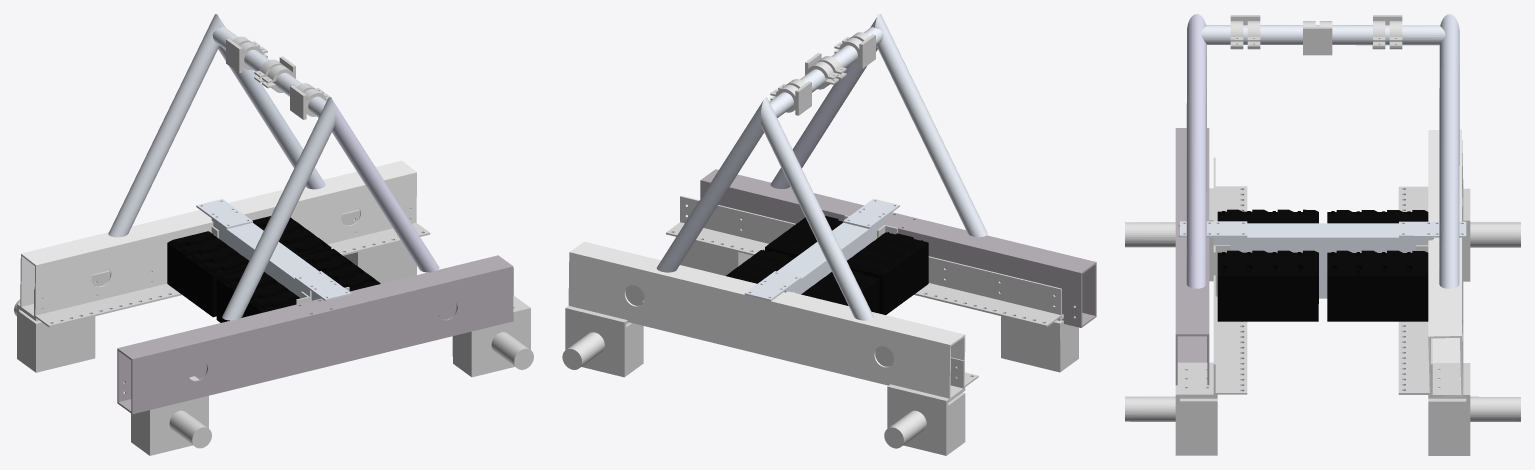
The model's file is base_unit.dae.
3 views of the same model, side by side, from view 1: azimuth 30°, elevation 25°; view 2: azimuth 150°, elevation 25°; view 3: azimuth 270°, elevation 25° (orthographic). The views are drawn at different scales.
Visible parts, largest first — view 1: Rover R4 - 58in Base Beam-3, Rover R4 - 58in Base Beam-2, Rover R4 - BAR1-3, Rover R4 - BAR1-1, Rover R4 - Simple Motor-3, Rover R4 - Simple Motor-1, Rover R4 - Simple Motor-4, Rover R4 - BAR1-4, Rover R4 - Base Plate-1, Rover R4 - Angled Bar 1-1, Rover R4 - BAR1-2, Rover R4 - Simple Motor-2 (+14 smaller); view 2: Rover R4 - 58in Base Beam-2, Rover R4 - 58in Base Beam-3, Rover R4 - Angled Bar 2-1, Rover R4 - Simple Motor-1, Rover R4 - Simple Motor-2, Rover R4 - BAR1-1, Rover R4 - BAR1-3, Rover R4 - Angled Bar 1-2, Rover R4 - Simple Motor-4, Rover R4 - BAR1-2, Rover R4 - Base Plate-1, Rover R4 - BAR1-4 (+13 smaller); view 3: Rover R4 - Base Plate-1, Rover R4 - BAR1-2, Rover R4 - BAR1-4, Rover R4 - 58in Base Beam-2, Rover R4 - Simple Motor-3, Rover R4 - 58in Base Beam-3, Rover R4 - Simple Motor-2, Rover R4 - BAR2-1, Rover R4 - Angled Bar 1-2, Rover R4 - Angled Bar 2-2, Rover R4 - Simple Motor-1, Rover R4 - Battery Model-15 (+15 smaller).
Boxes of the visible parts, left/top/right/bottom form: Rover R4 - 58in Base Beam-3: left=117, top=255, right=513, bottom=414; Rover R4 - 58in Base Beam-2: left=20, top=160, right=416, bottom=315; Rover R4 - BAR1-3: left=222, top=97, right=335, bottom=320; Rover R4 - BAR1-1: left=108, top=14, right=220, bottom=237; Rover R4 - Simple Motor-3: left=452, top=295, right=533, bottom=377; Rover R4 - Simple Motor-1: left=14, top=299, right=95, bottom=372; Rover R4 - Simple Motor-4: left=131, top=376, right=211, bottom=455; Rover R4 - BAR1-4: left=332, top=101, right=439, bottom=272; Rover R4 - Base Plate-1: left=211, top=218, right=320, bottom=300; Rover R4 - Angled Bar 1-1: left=34, top=270, right=181, bottom=327; Rover R4 - BAR1-2: left=218, top=17, right=325, bottom=189; Rover R4 - Simple Motor-2: left=343, top=241, right=416, bottom=283; Rover R4 - 58in Base Beam-2: left=568, top=241, right=965, bottom=398; Rover R4 - 58in Base Beam-3: left=700, top=169, right=1096, bottom=327; Rover R4 - Angled Bar 2-1: left=914, top=256, right=1061, bottom=327; Rover R4 - Simple Motor-1: left=884, top=384, right=965, bottom=455; Rover R4 - Simple Motor-2: left=562, top=306, right=643, bottom=377; Rover R4 - BAR1-1: left=760, top=97, right=873, bottom=320; Rover R4 - BAR1-3: left=875, top=14, right=987, bottom=237; Rover R4 - Angled Bar 1-2: left=666, top=196, right=795, bottom=255; Rover R4 - Simple Motor-4: left=1001, top=306, right=1078, bottom=372; Rover R4 - BAR1-2: left=656, top=100, right=763, bottom=272; Rover R4 - Base Plate-1: left=777, top=218, right=884, bottom=294; Rover R4 - BAR1-4: left=770, top=17, right=877, bottom=188; Rover R4 - Base Plate-1: left=1213, top=223, right=1432, bottom=298; Rover R4 - BAR1-2: left=1439, top=14, right=1459, bottom=288; Rover R4 - BAR1-4: left=1186, top=14, right=1206, bottom=288; Rover R4 - 58in Base Beam-2: left=1428, top=129, right=1463, bottom=397; Rover R4 - Simple Motor-3: left=1125, top=362, right=1217, bottom=455; Rover R4 - 58in Base Beam-3: left=1175, top=128, right=1209, bottom=385; Rover R4 - Simple Motor-2: left=1428, top=363, right=1520, bottom=455; Rover R4 - BAR2-1: left=1201, top=25, right=1445, bottom=45; Rover R4 - Angled Bar 1-2: left=1213, top=275, right=1247, bottom=394; Rover R4 - Angled Bar 2-2: left=1398, top=321, right=1432, bottom=394; Rover R4 - Simple Motor-1: left=1463, top=188, right=1520, bottom=281; Rover R4 - Battery Model-15: left=1268, top=250, right=1293, bottom=321.
Size of the model in its own units: 1.54 by 1.19 by 1.13.
